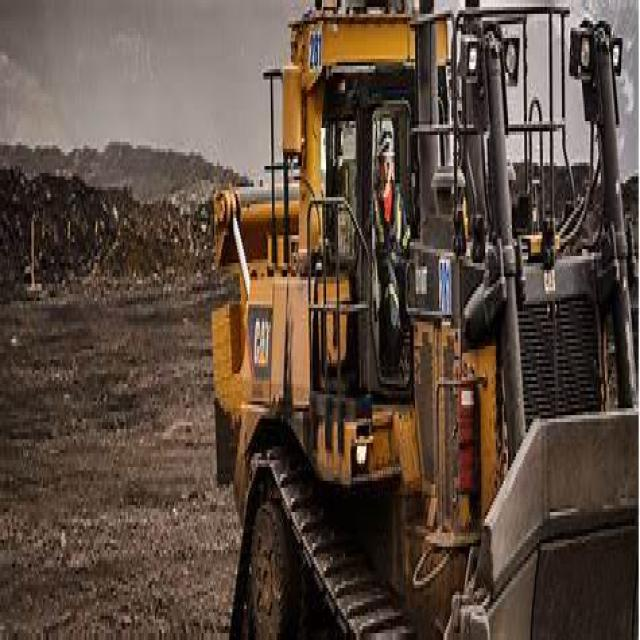buldozerpayloadergrader: (191, 14, 632, 623)
